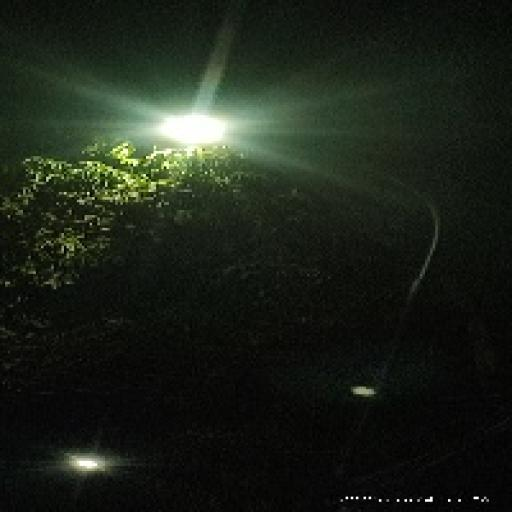Working: (152, 103, 232, 165), (64, 448, 112, 480)
